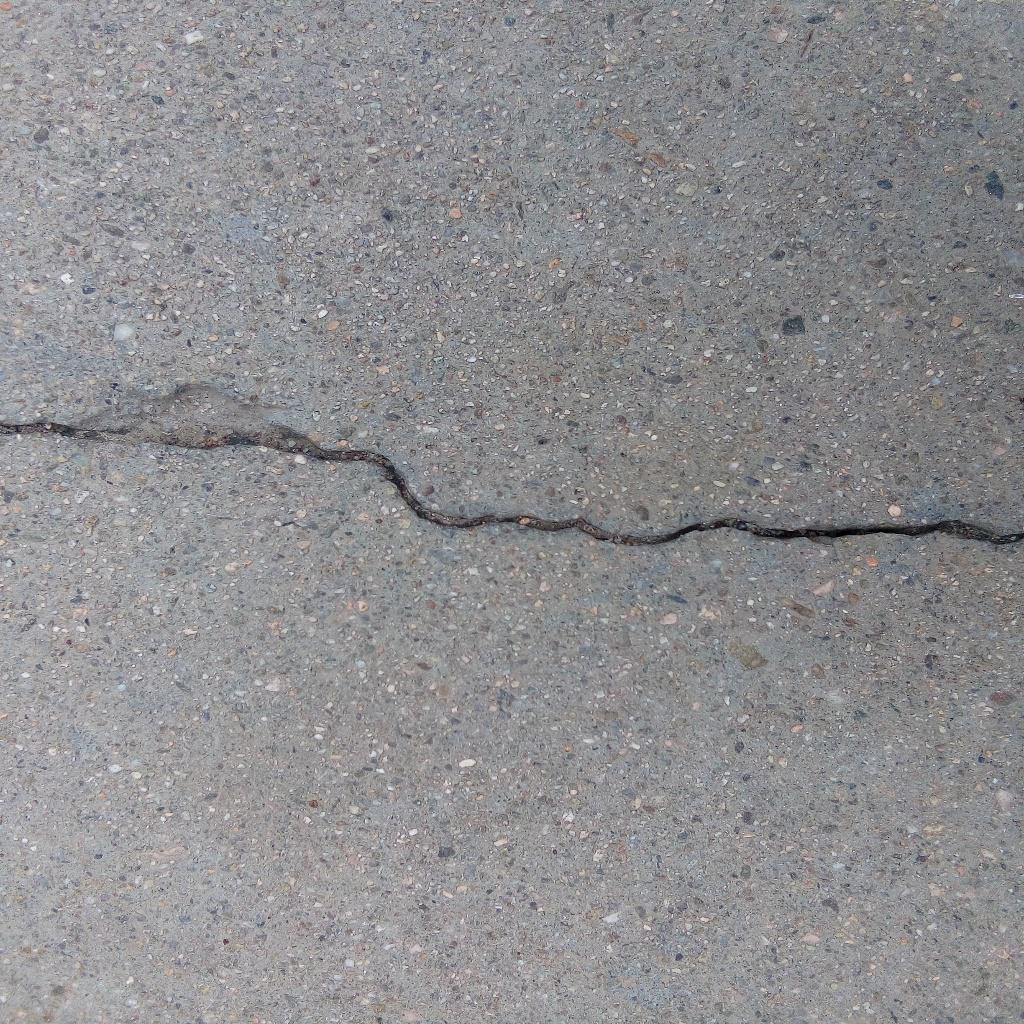Crack: (1, 418, 1024, 548)
